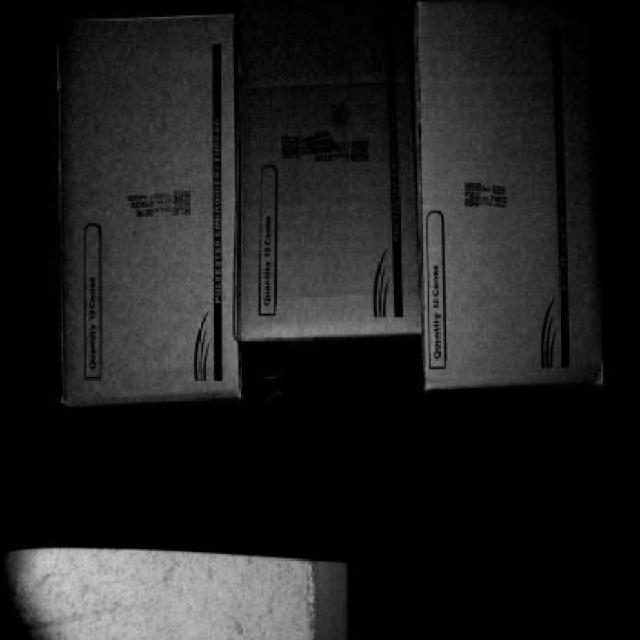cardboxes: (430, 12, 605, 392), (63, 11, 234, 391), (248, 12, 422, 336)
